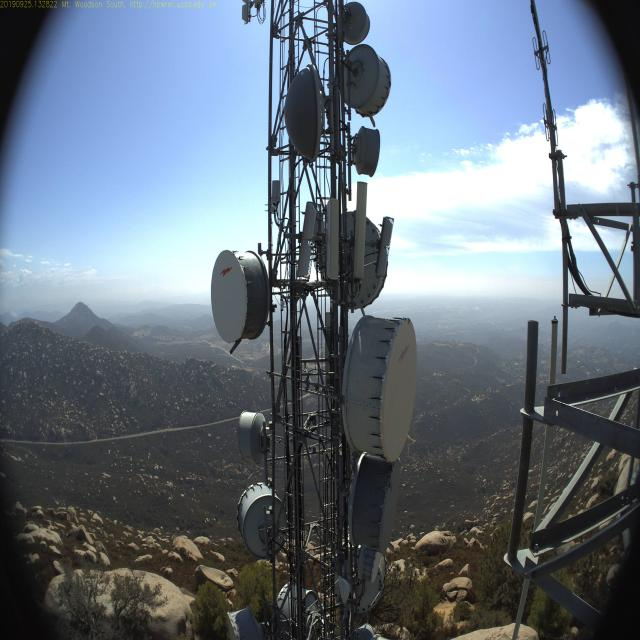smoke: (0, 295, 21, 317)
